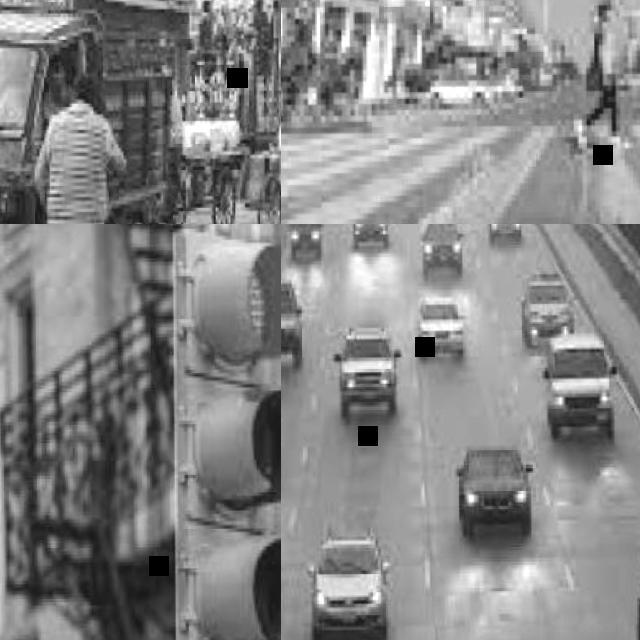car: (307, 537, 388, 637), (338, 334, 398, 431)
